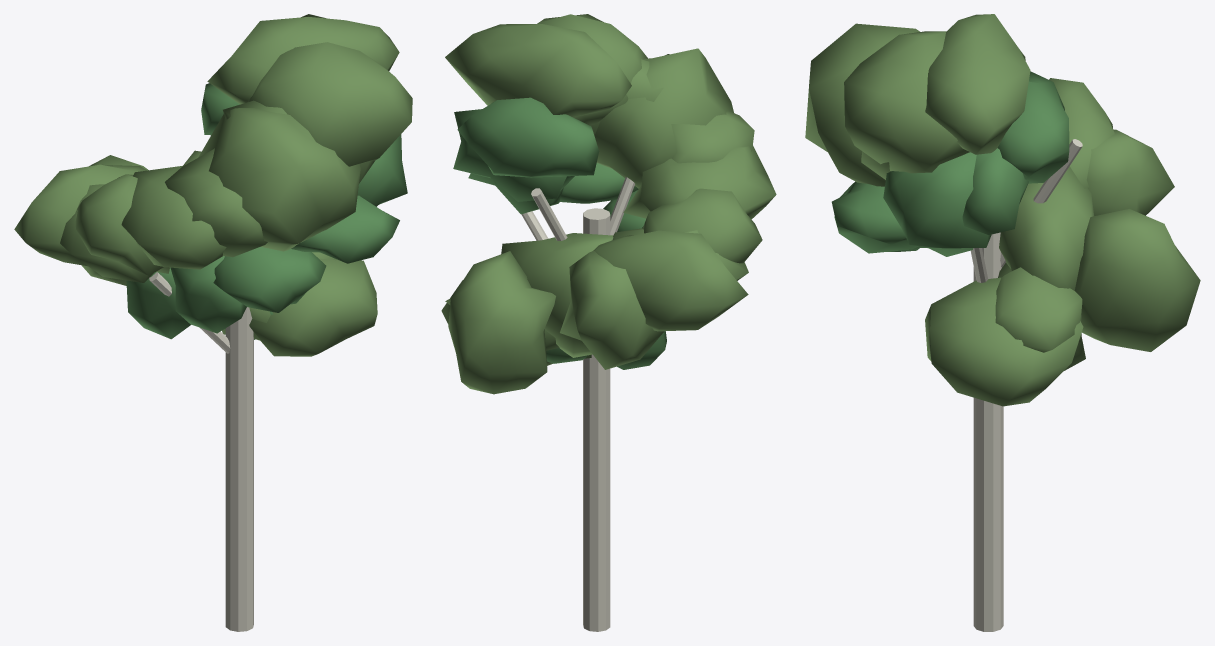
File: norway-birch_lod0.glb
3 renders of one model, left to right at view 1: azimuth 30°, elevation 25°; view 2: azimuth 150°, elevation 25°; view 3: azimuth 270°, elevation 25°, orthographic. The views are drawn at different scales.
Visible parts, largest first — view 1: RF_BirchCrown_07, RF_BirchCrown_10, RF_Birch_Trunk, RF_BirchCrown_13, RF_BirchCrown_05, RF_BirchCrown_04, RF_BirchShadow_01, RF_BirchCrown_14, RF_BirchCrown_12, RF_BirchCrown_09, RF_BirchShadow_04, RF_BirchShadow_06 (+7 smaller); view 2: RF_BirchCrown_05, RF_BirchCrown_03, RF_BirchCrown_14, RF_BirchCrown_07, RF_BirchShadow_05, RF_Birch_Trunk, RF_BirchCrown_06, RF_BirchCrown_04, RF_BirchCrown_09, RF_BirchCrown_11, RF_BirchCrown_12, RF_BirchCrown_10 (+9 smaller); view 3: RF_BirchCrown_03, RF_BirchCrown_13, RF_BirchCrown_10, RF_BirchCrown_05, RF_Birch_Trunk, RF_BirchCrown_11, RF_BirchShadow_07, RF_BirchCrown_07, RF_BirchCrown_08, RF_BirchCrown_06, RF_BirchShadow_05, RF_BirchShadow_02 (+3 smaller).
Part boxes in pixels (<box>): RF_BirchCrown_07: <box>198,108,360,251</box>; RF_BirchCrown_10: <box>247,42,412,166</box>; RF_Birch_Trunk: <box>225,307,253,631</box>; RF_BirchCrown_13: <box>249,258,377,356</box>; RF_BirchCrown_05: <box>207,14,399,104</box>; RF_BirchCrown_04: <box>121,166,226,269</box>; RF_BirchShadow_01: <box>213,247,326,312</box>; RF_BirchCrown_14: <box>14,164,146,266</box>; RF_BirchCrown_12: <box>165,148,267,257</box>; RF_BirchCrown_09: <box>75,174,169,275</box>; RF_BirchShadow_04: <box>291,195,399,263</box>; RF_BirchShadow_06: <box>170,256,246,333</box>; RF_BirchCrown_05: <box>445,24,631,116</box>; RF_BirchCrown_03: <box>448,251,555,394</box>; RF_BirchCrown_14: <box>593,230,748,331</box>; RF_BirchCrown_07: <box>594,48,733,188</box>; RF_BirchShadow_05: <box>457,97,599,177</box>; RF_Birch_Trunk: <box>583,208,610,631</box>; RF_BirchCrown_06: <box>560,250,663,369</box>; RF_BirchCrown_04: <box>623,146,776,219</box>; RF_BirchCrown_09: <box>642,188,762,263</box>; RF_BirchCrown_11: <box>501,233,613,357</box>; RF_BirchCrown_12: <box>671,111,754,163</box>; RF_BirchCrown_10: <box>537,14,647,125</box>; RF_BirchCrown_03: <box>1074,209,1200,351</box>; RF_BirchCrown_13: <box>925,277,1085,406</box>; RF_BirchCrown_10: <box>844,31,969,173</box>; RF_BirchCrown_05: <box>925,14,1030,154</box>; RF_Birch_Trunk: <box>973,232,1003,631</box>; RF_BirchCrown_11: <box>999,166,1093,290</box>; RF_BirchShadow_07: <box>883,152,991,256</box>; RF_BirchCrown_07: <box>805,23,919,186</box>; RF_BirchCrown_08: <box>995,263,1082,352</box>; RF_BirchCrown_06: <box>1086,129,1174,215</box>; RF_BirchShadow_05: <box>997,71,1069,183</box>; RF_BirchShadow_02: <box>962,148,1028,234</box>.
Bounding box in the file's own units: 8.69 × 14.71 × 8.43.
